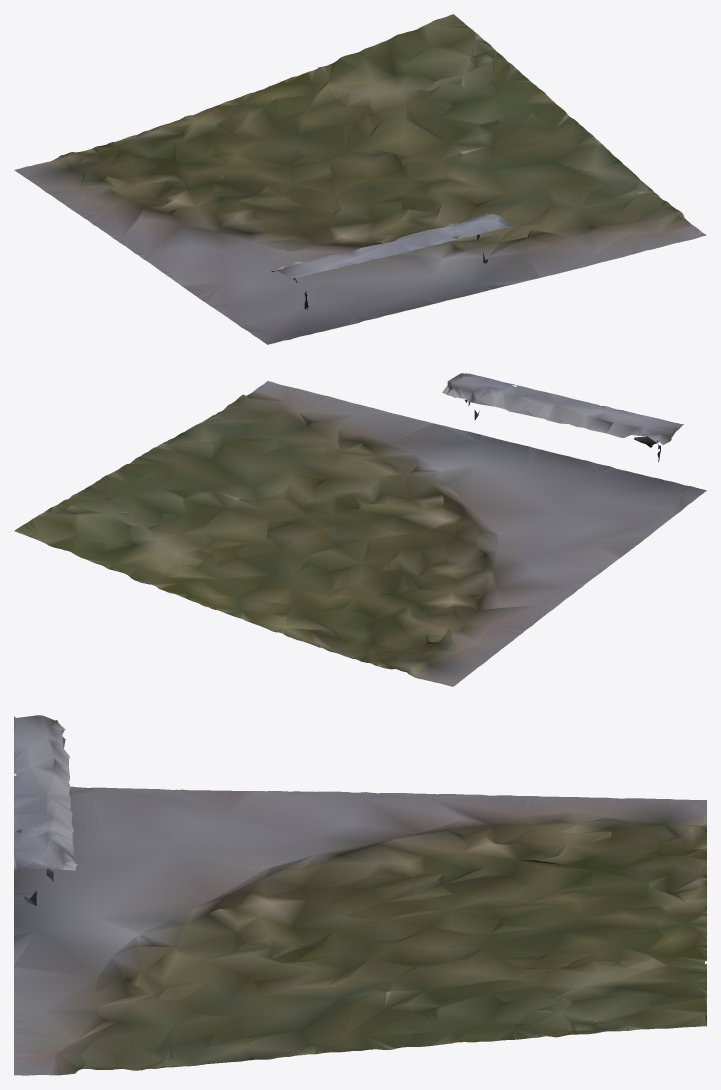
File: coarse.glb
The picture shows the model from 3 angles, top to bottom: view 1: azimuth 30°, elevation 25°; view 2: azimuth 150°, elevation 25°; view 3: azimuth 270°, elevation 25°; orthographic projection. The views are drawn at different scales.
Size of the model in its own units: 3.6 by 0.5707 by 3.6.
